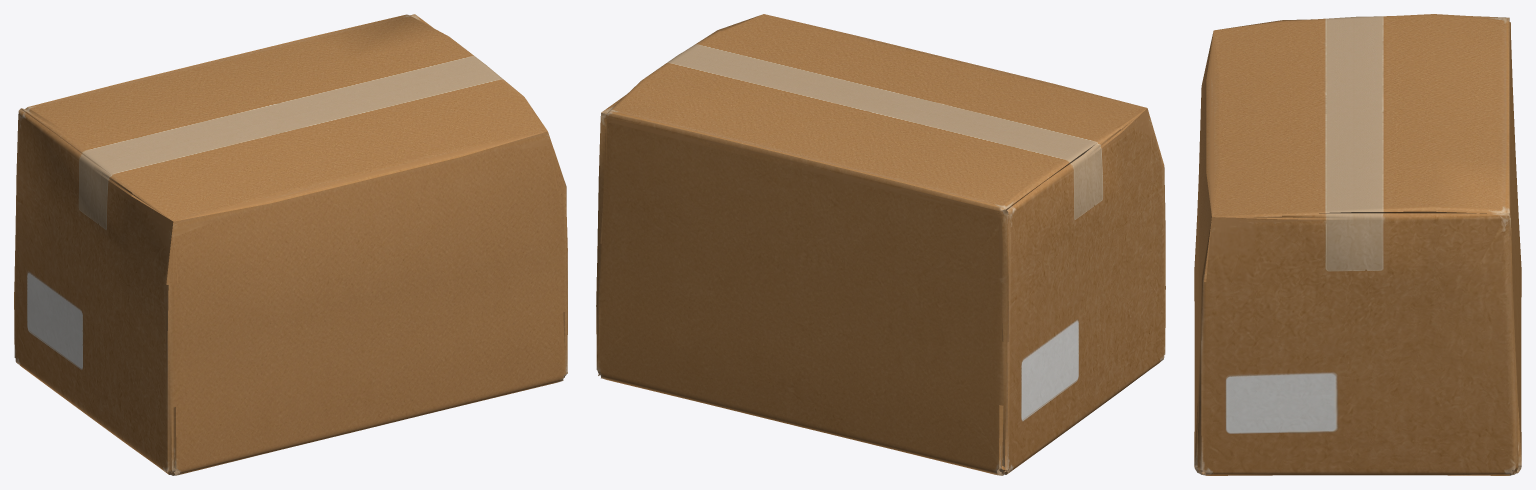
Rendered from CardboardBox_low.fbx.
3 renders of one model, left to right at view 1: azimuth 30°, elevation 25°; view 2: azimuth 150°, elevation 25°; view 3: azimuth 270°, elevation 25°, orthographic. The views are drawn at different scales.
Parts seen in each view (by area): view 1: CardboardBox_low; view 2: CardboardBox_low; view 3: CardboardBox_low.
Part boxes in pixels (x1,y1,x2,y2): CardboardBox_low: [14, 14, 567, 475]; CardboardBox_low: [596, 14, 1165, 475]; CardboardBox_low: [1194, 14, 1521, 475].
Bounding box in the file's own units: 190 × 119 × 132.
